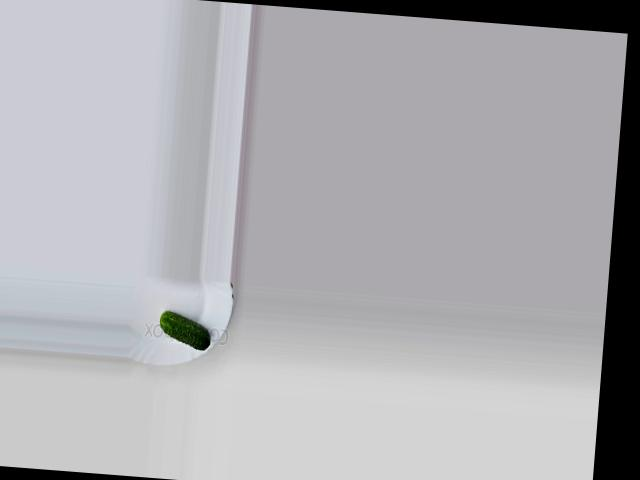cucumber: (157, 310, 211, 350)
